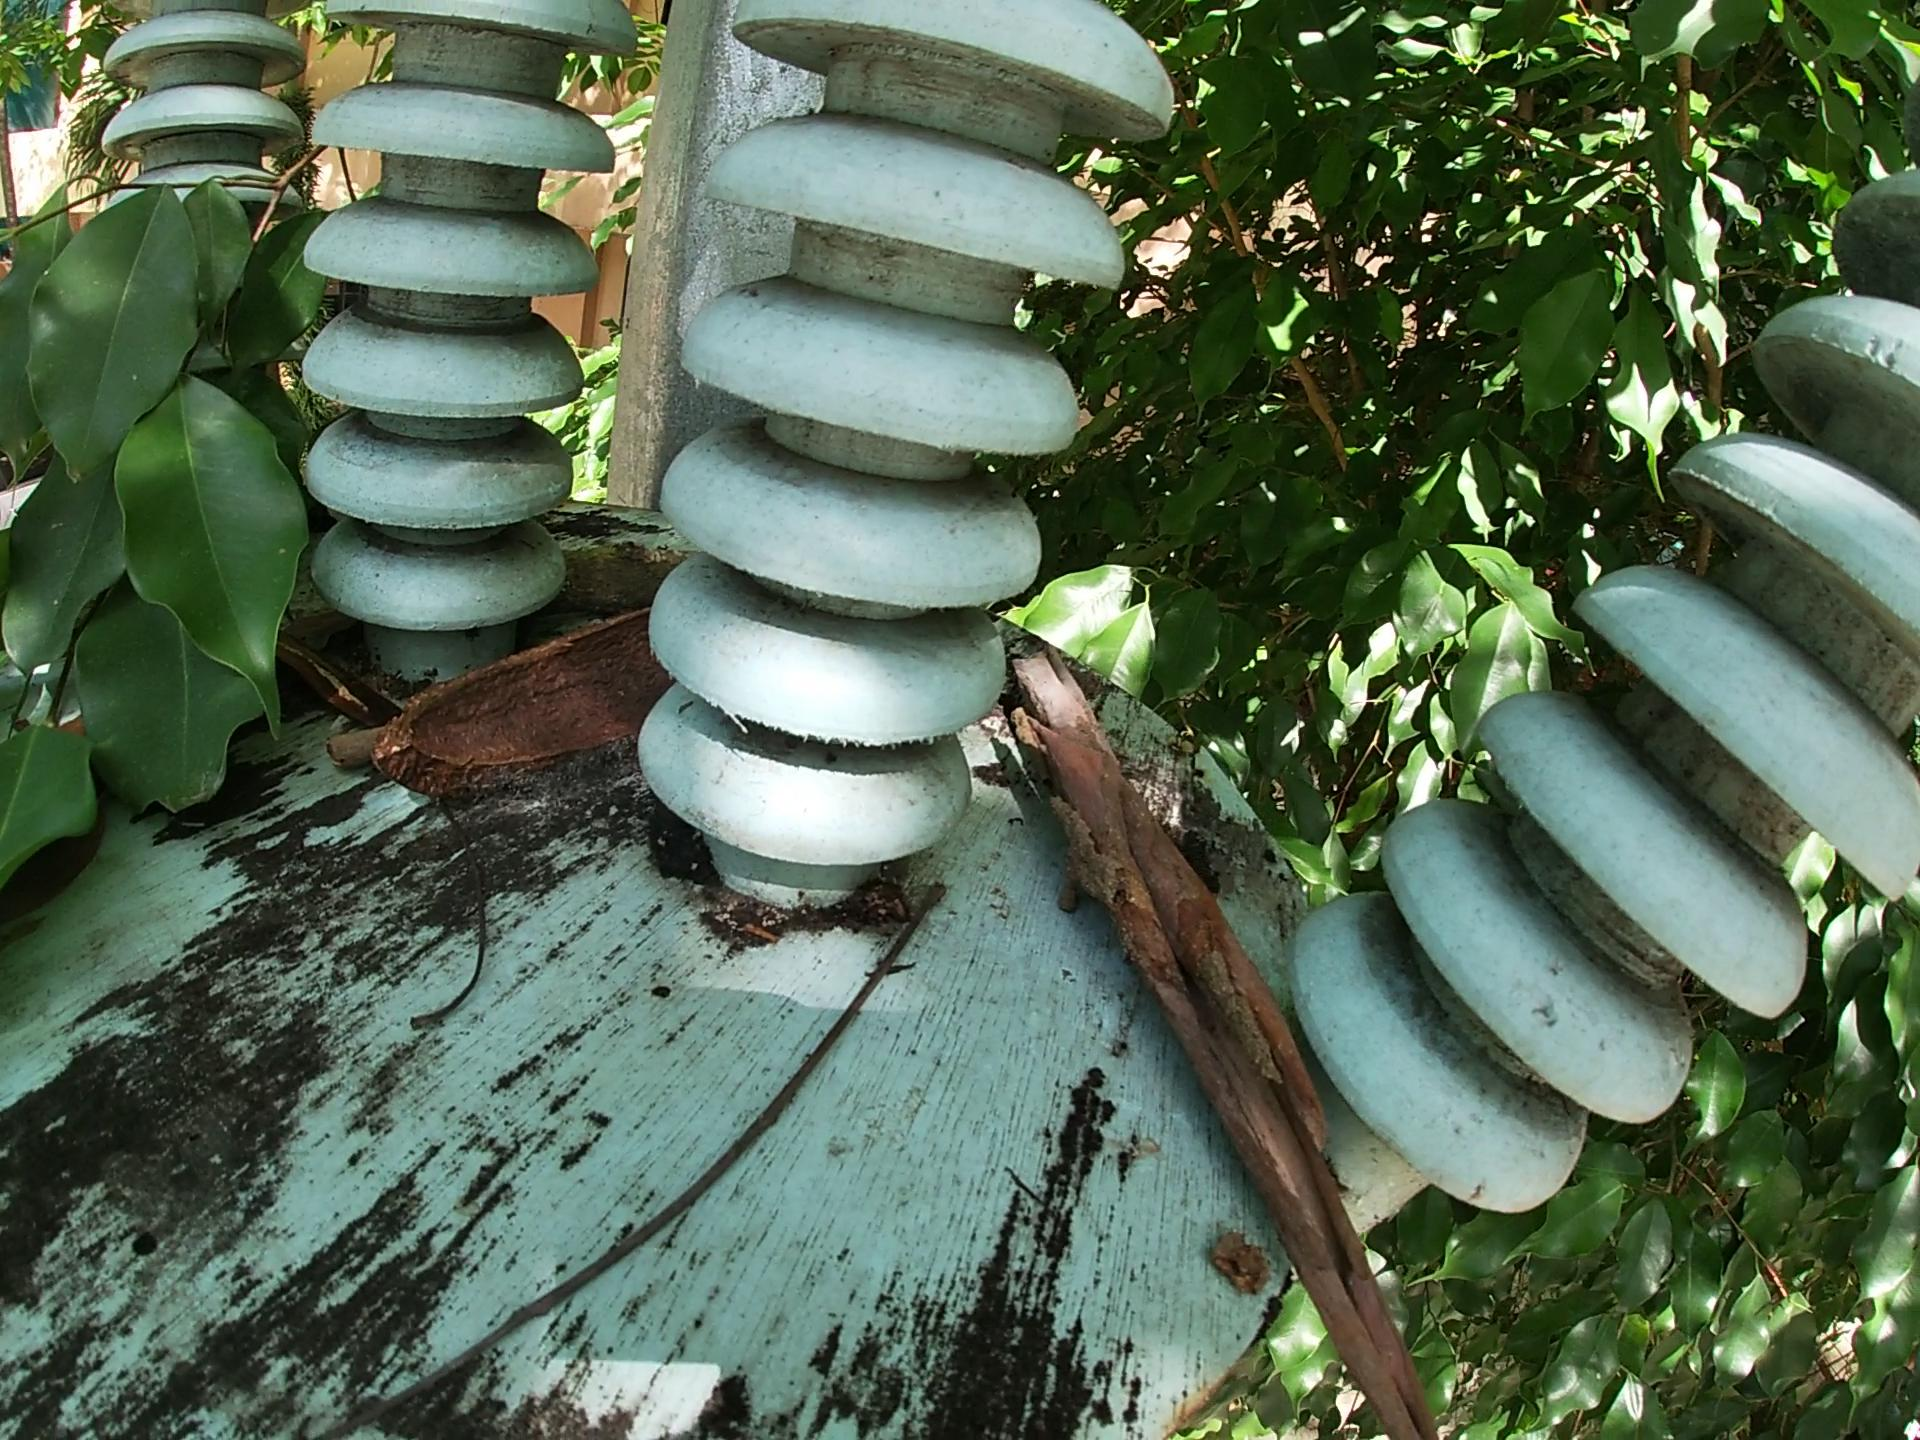branch with leaves: (2, 98, 367, 964)
leaf: (286, 622, 410, 734)
mahogany fruit: (363, 601, 695, 824)
tree branch: (992, 640, 1485, 1435), (342, 859, 989, 1429), (382, 800, 494, 1060), (525, 538, 724, 637), (317, 729, 379, 788)
